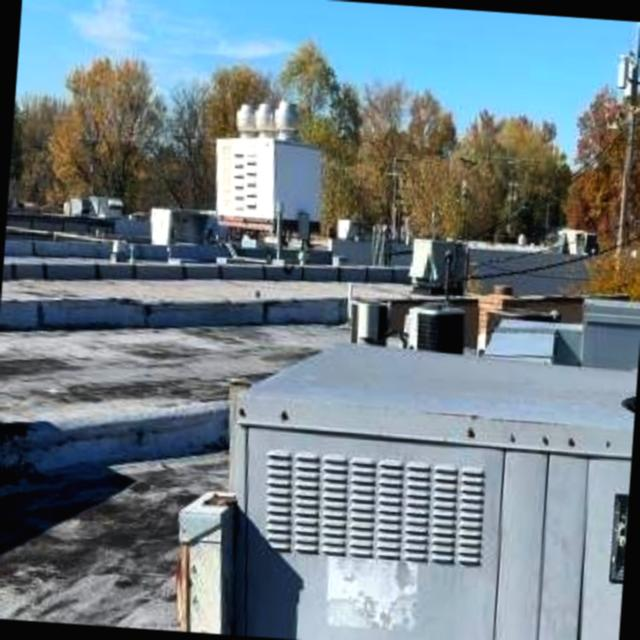RTU: (162, 328, 638, 640)
